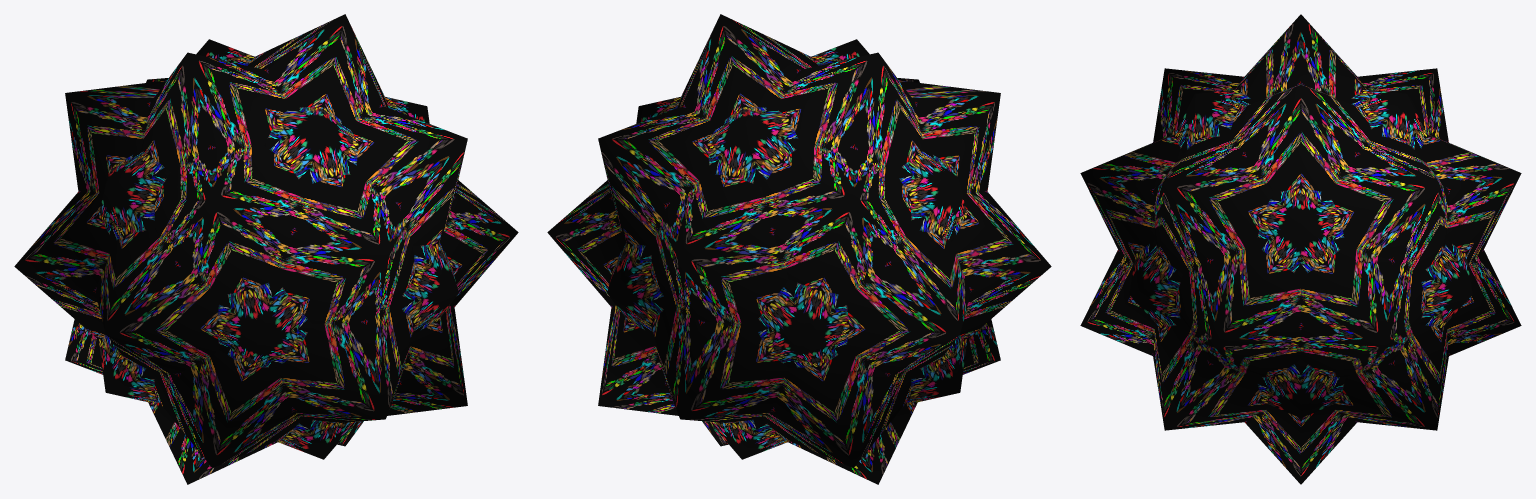
The model's file is 34MedialIcosacronicHexecontahedron.gltf.
3 views of the same model, side by side, from view 1: azimuth 30°, elevation 25°; view 2: azimuth 150°, elevation 25°; view 3: azimuth 270°, elevation 25° (orthographic). The views are drawn at different scales.
Parts seen in each view (by area): view 1: MedialIcosacronicHexecontahedron9; view 2: MedialIcosacronicHexecontahedron9; view 3: MedialIcosacronicHexecontahedron9.
Boxes of the visible parts, <box> form: MedialIcosacronicHexecontahedron9: <box>14,14,518,484</box>; MedialIcosacronicHexecontahedron9: <box>547,14,1051,484</box>; MedialIcosacronicHexecontahedron9: <box>1080,14,1521,484</box>.
Bounding box in the file's own units: 3.24 × 3.24 × 3.24.
1 material, 1 textured.
